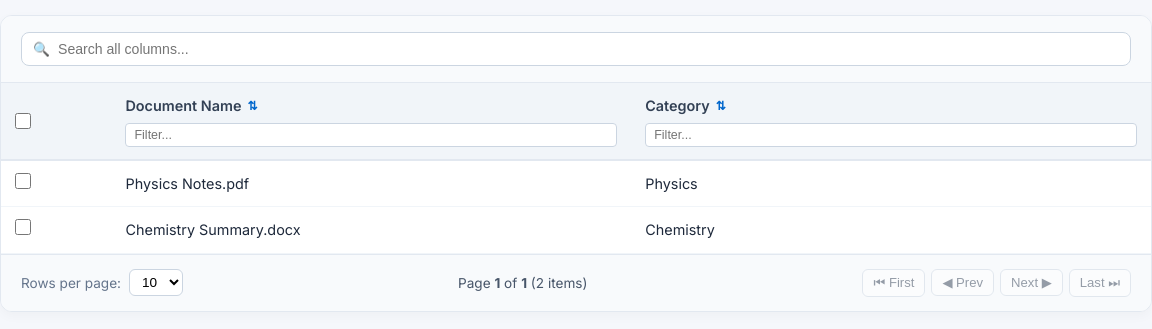
it: DataTable Component › filters table rows when user types in global search input
This screenshot has width=1152, height=329.
Type "Physics" into the field with placeholder "Search all columns..." at [576, 49], box [21,32,1131,66]
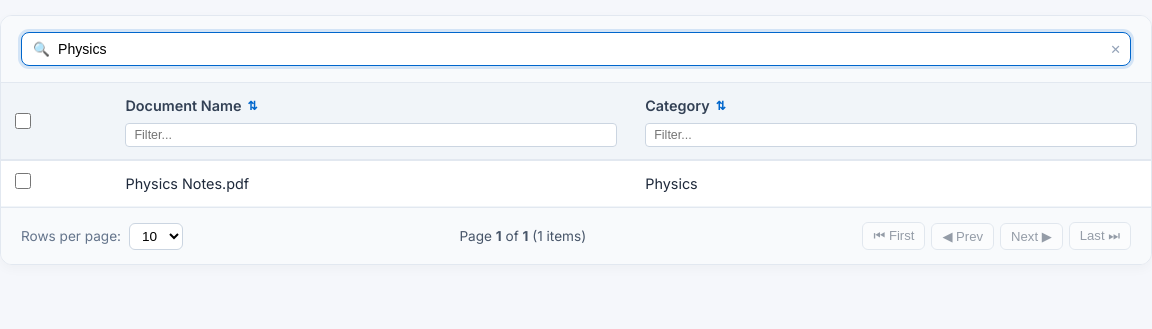
Expected: the cell "Physics Notes.pdf" is shown, [112,160,631,207]
Expected: the cell "Chemistry Summary.docx" is gone
